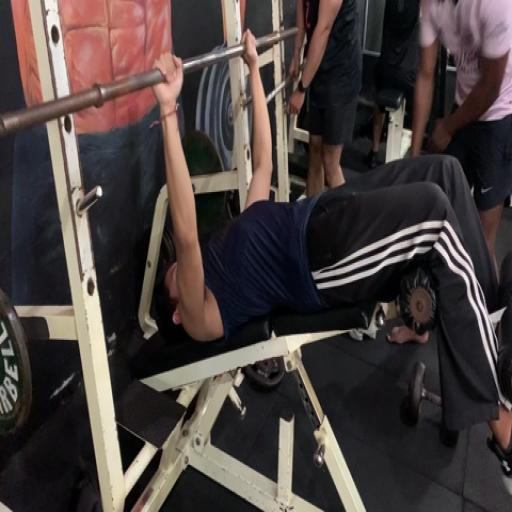exercise: (146, 27, 511, 486)
